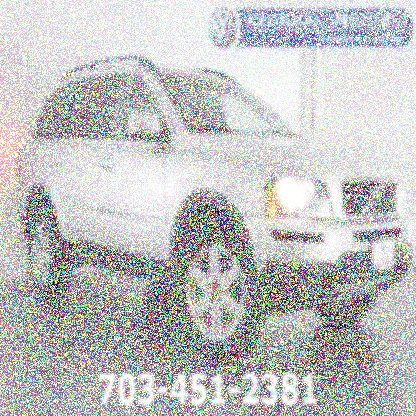Vehicle: (15, 59, 415, 368)
